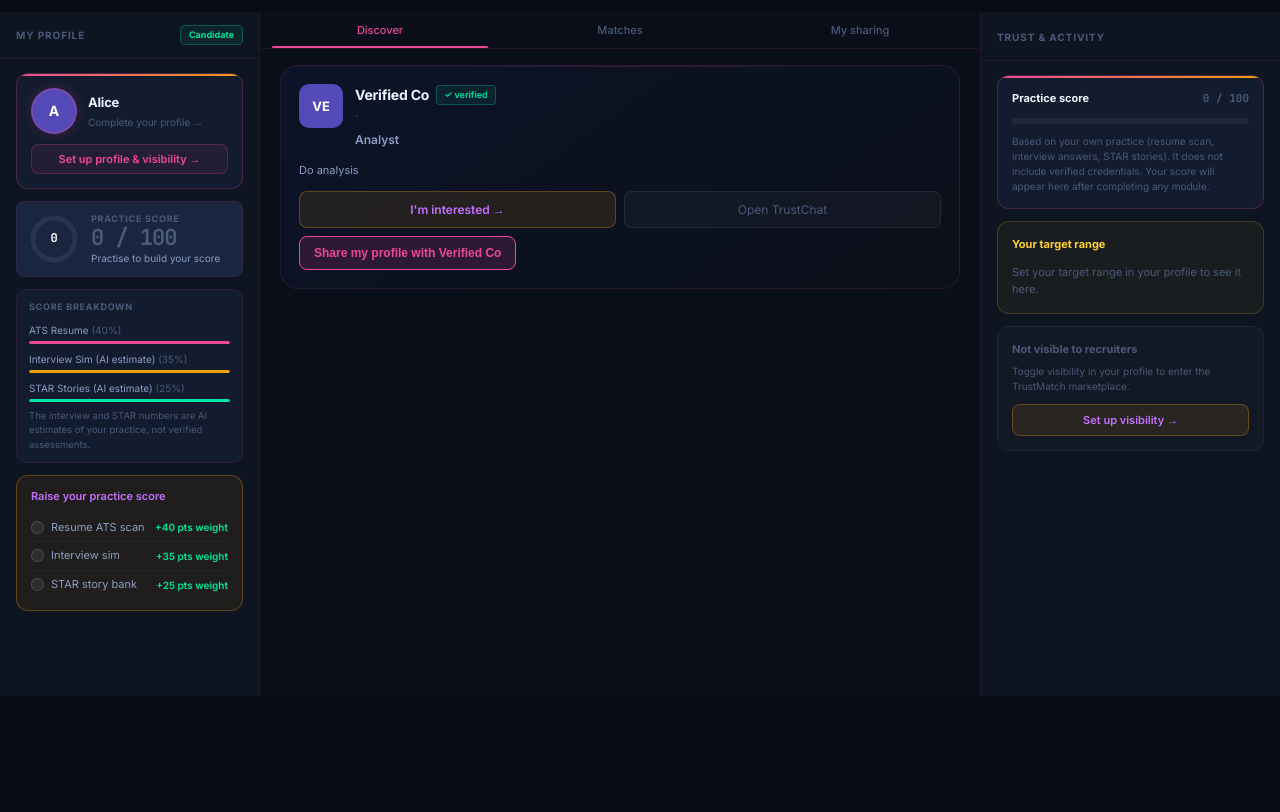
Test: flag ON › a failed consent list shows an error on the My sharing tab instead of "nothing shared"
The image size is (1280, 812).
Step 1. Click the button "My sharing" → (860, 30), box [740, 12, 980, 48]
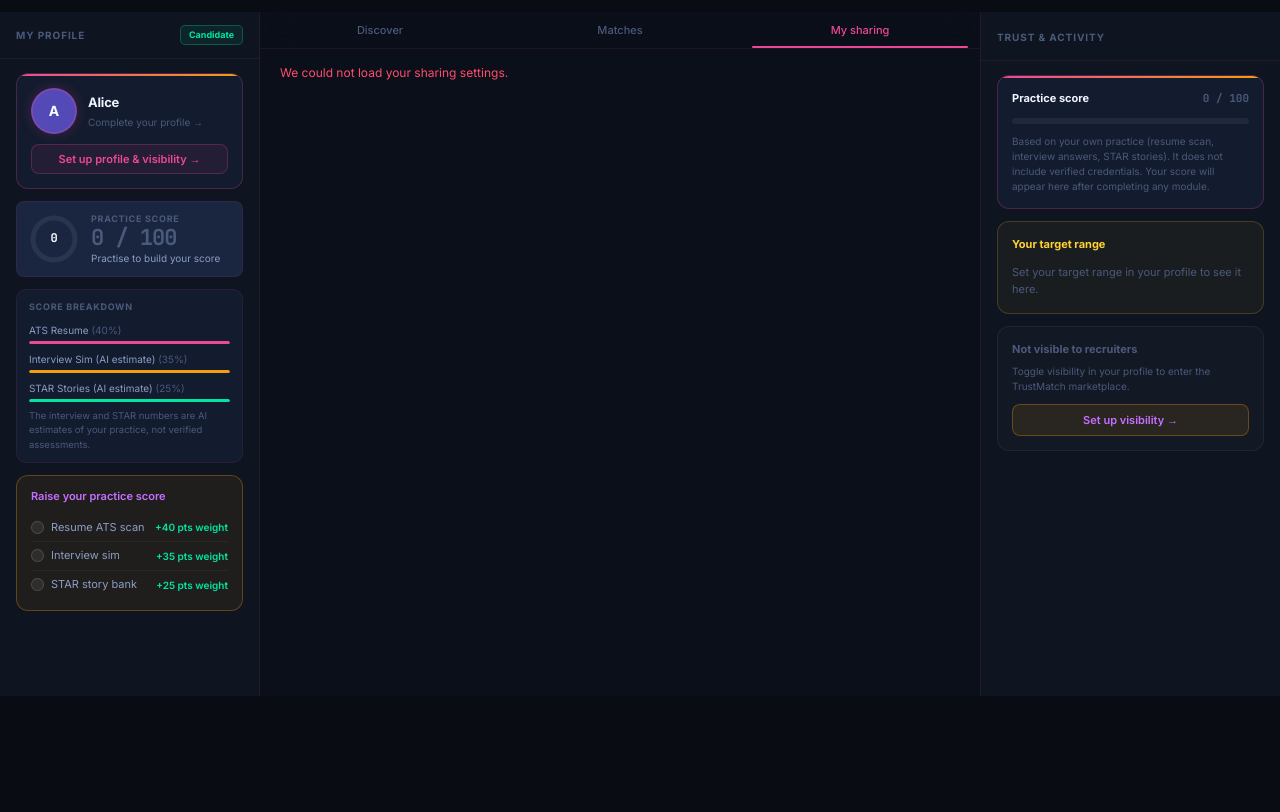
Expected: the message shows "could not load", [280, 65, 508, 80]
